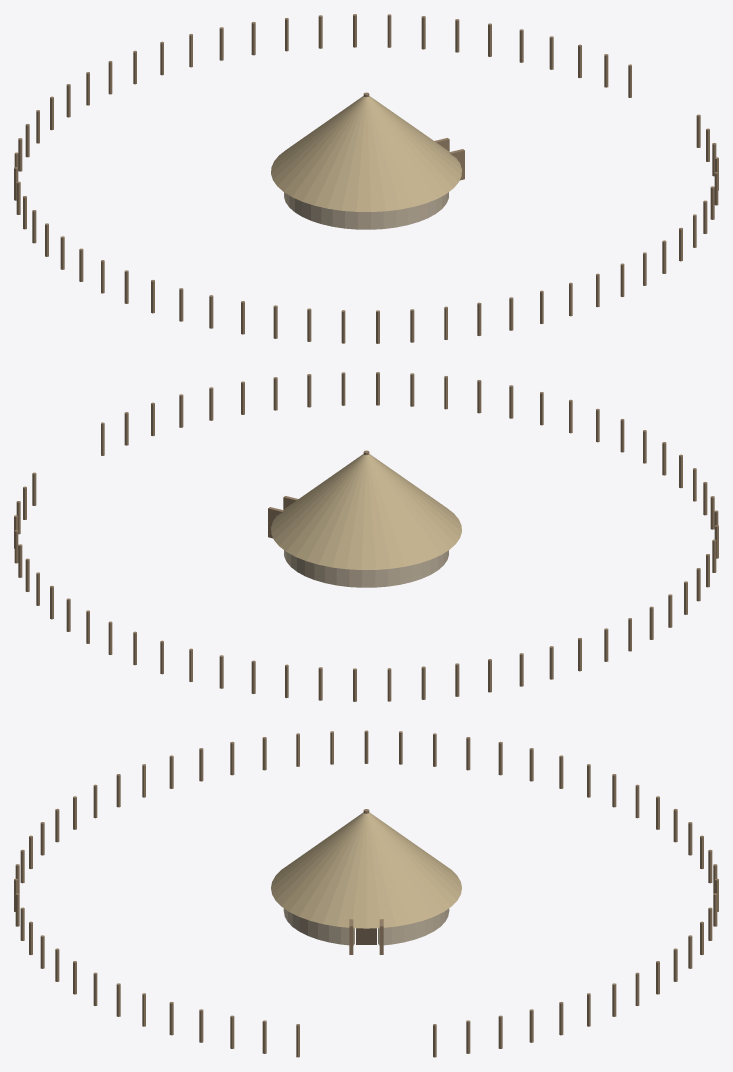
Rendered from roundhouse.glb.
The picture shows the model from 3 angles, top to bottom: view 1: azimuth 30°, elevation 25°; view 2: azimuth 150°, elevation 25°; view 3: azimuth 270°, elevation 25°; orthographic projection.
Parts seen in each view (by area): view 1: roundhouse; view 2: roundhouse; view 3: roundhouse.
Part boxes in pixels (x1=…): roundhouse: x1=14, y1=14, x2=718, y2=343; roundhouse: x1=14, y1=372, x2=718, y2=701; roundhouse: x1=14, y1=730, x2=718, y2=1057.
Size of the model in its own units: 43.86 by 7 by 44.24.
